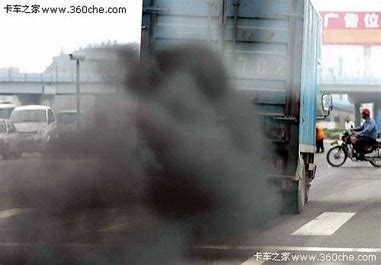smoke: (2, 45, 274, 265)
